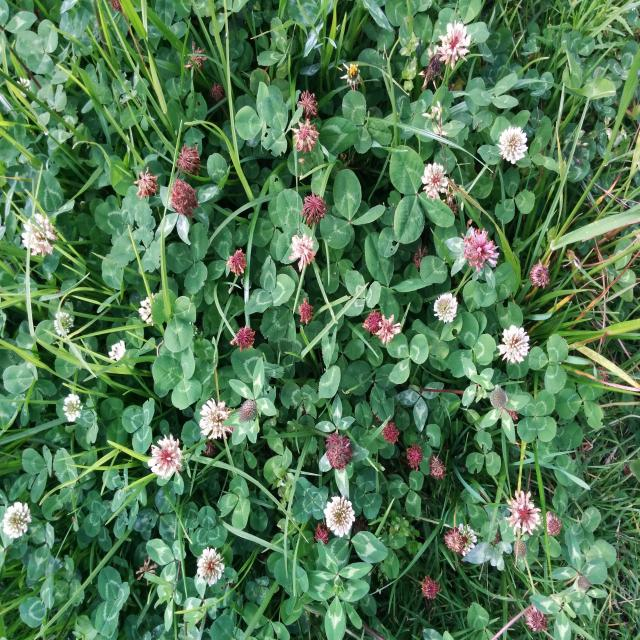Four Leaf Clover: (517, 390, 556, 443)
